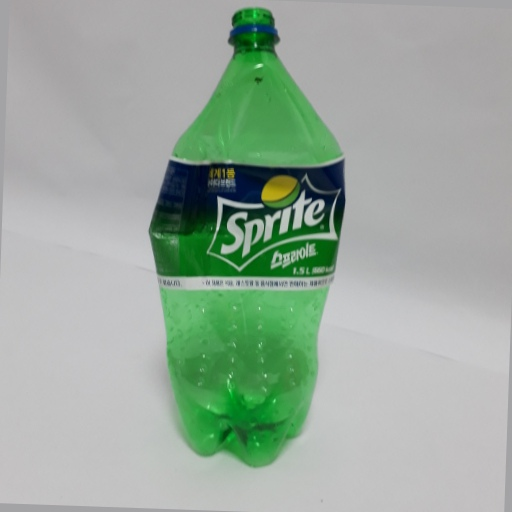Plastic_0: (152, 4, 348, 470)
